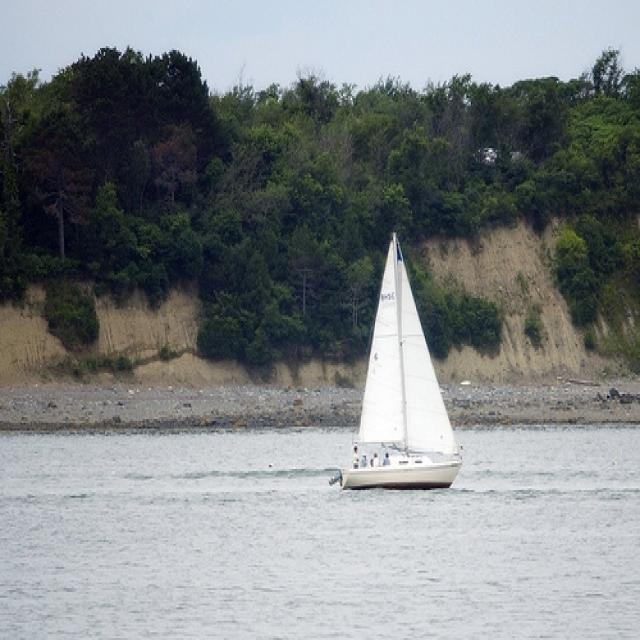Ship: (345, 223, 464, 512)
